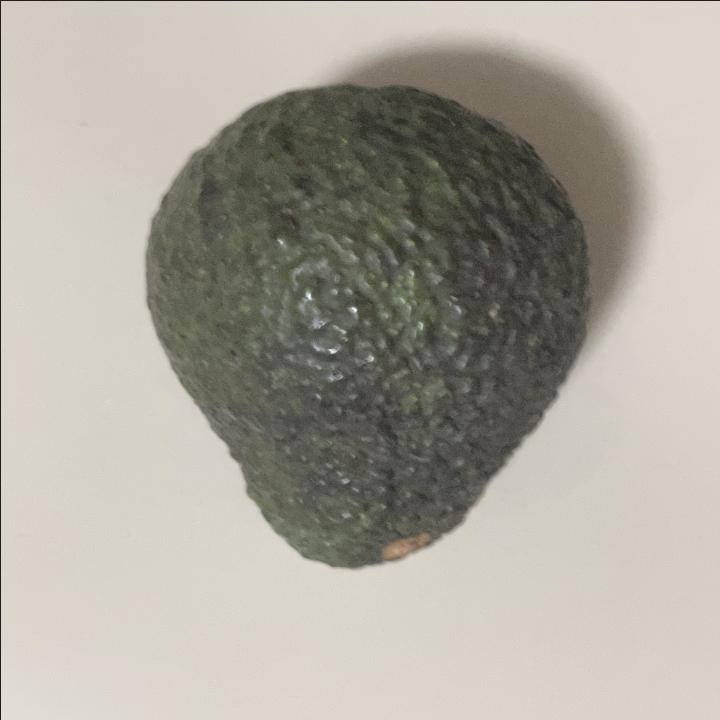Level1: (127, 74, 601, 584)
